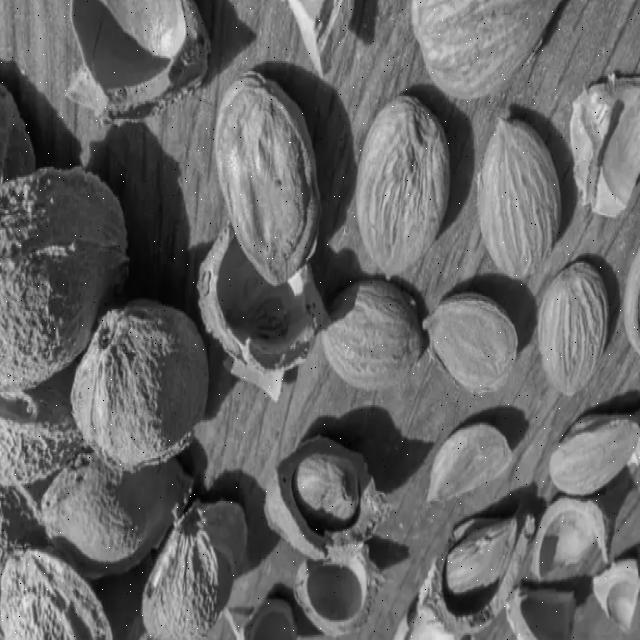kayisi cekirdegi: (2, 168, 132, 397), (200, 235, 328, 408), (70, 310, 207, 467), (44, 448, 199, 578), (63, 0, 208, 126), (219, 90, 318, 274), (362, 94, 453, 278), (138, 504, 257, 640), (408, 513, 533, 640), (405, 0, 561, 96), (264, 438, 386, 560), (479, 114, 561, 284), (320, 280, 426, 390), (572, 64, 640, 225), (2, 546, 114, 640), (537, 259, 610, 403), (427, 288, 522, 392), (533, 492, 615, 611), (3, 372, 73, 506), (427, 408, 513, 513), (550, 403, 640, 502), (290, 556, 386, 640), (294, 0, 357, 78), (590, 551, 640, 636), (624, 246, 640, 357)
